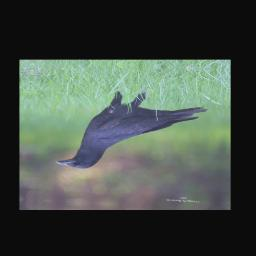Crow: (55, 80, 211, 176)
